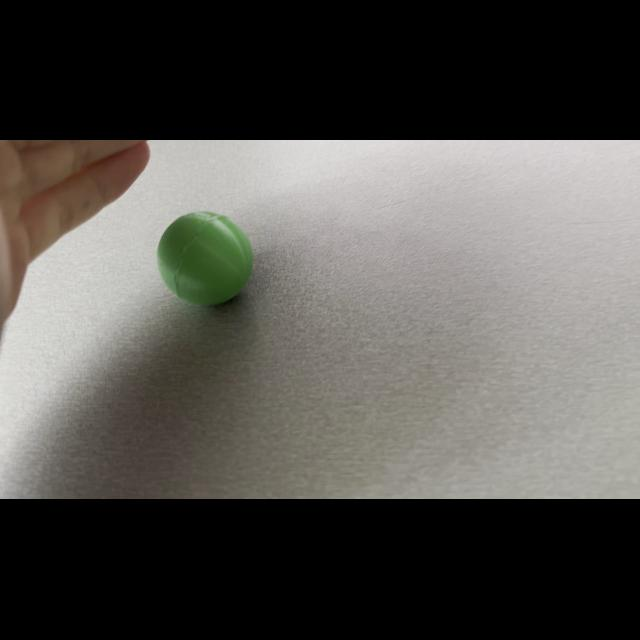objects: (150, 200, 266, 312)
